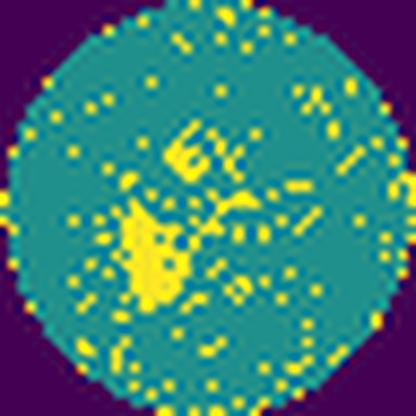Loc: (111, 195, 191, 317), (161, 117, 211, 183)
